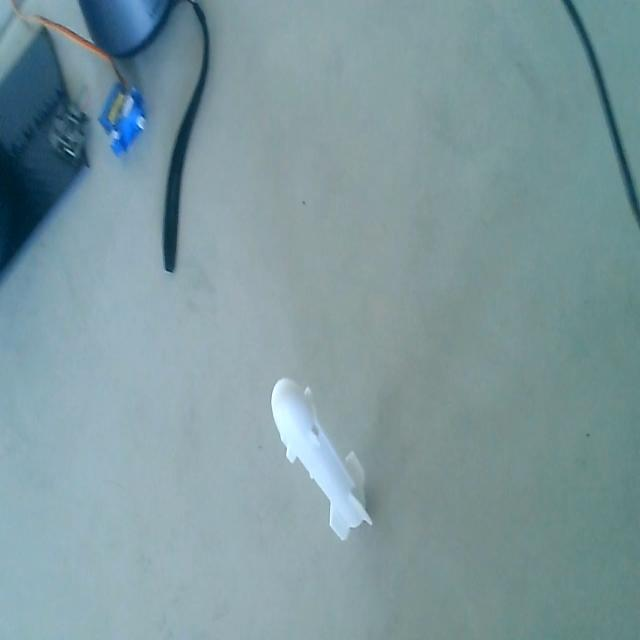Rocket: (272, 374, 374, 550)
